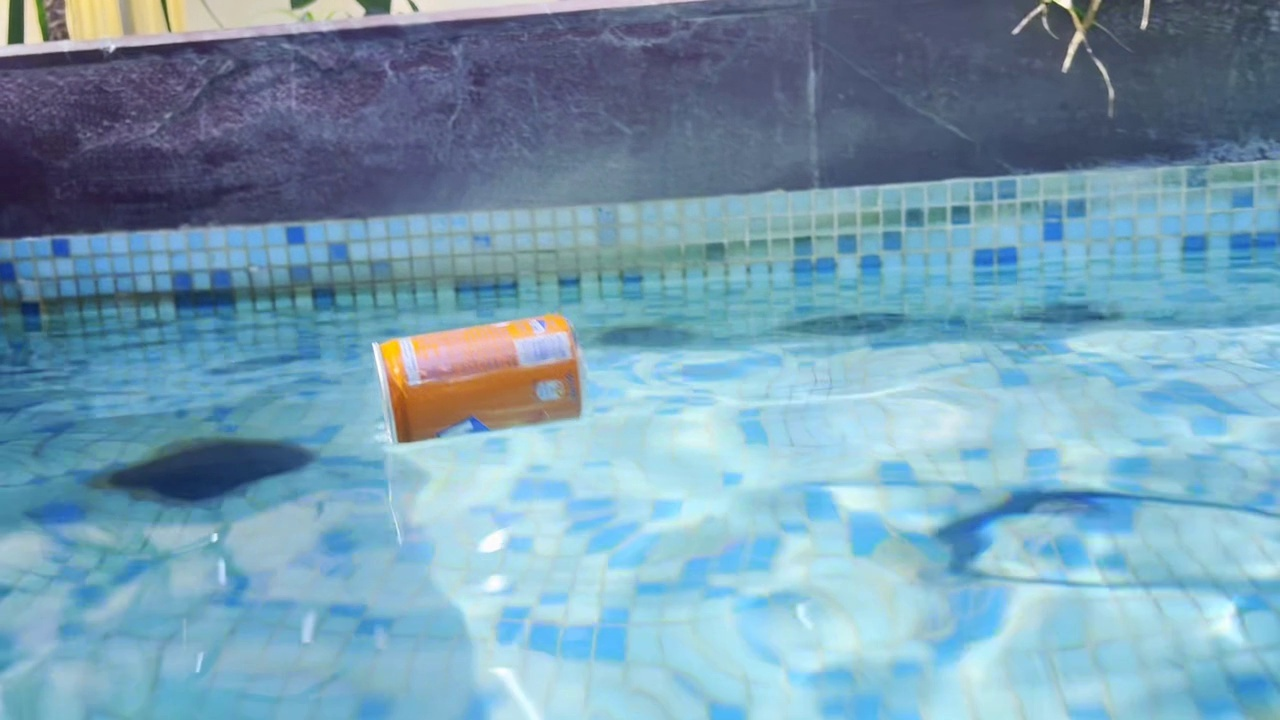debris: (356, 308, 589, 449)
